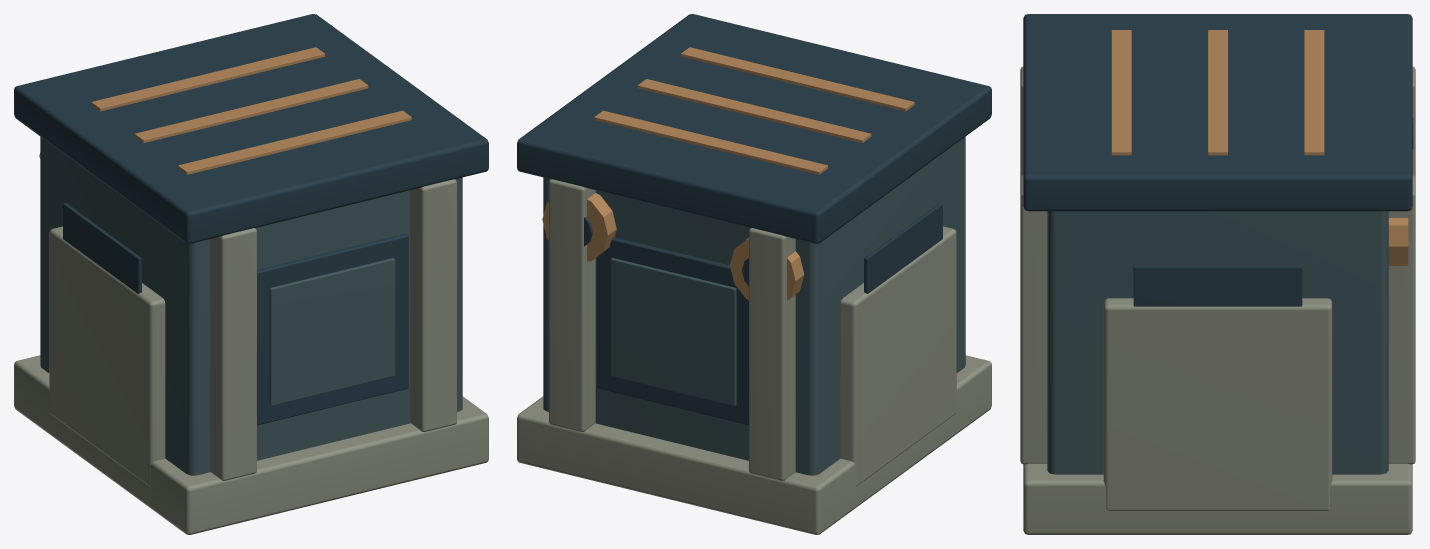
File: pump-1.glb
3 renders of one model, left to right at view 1: azimuth 30°, elevation 25°; view 2: azimuth 150°, elevation 25°; view 3: azimuth 270°, elevation 25°, orthographic. The views are drawn at different scales.
Visible parts, largest first — view 1: pump_2.001, pump_1.001, pump_0.001, pump_3.001; view 2: pump_2.001, pump_1.001, pump_0.001, pump_3.001; view 3: pump_1.001, pump_2.001, pump_0.001, pump_3.001.
Boxes of the visible parts, left/top/right/bottom form: pump_2.001: left=14, top=14, right=488, bottom=425; pump_1.001: left=14, top=179, right=488, bottom=534; pump_0.001: left=40, top=136, right=462, bottom=475; pump_3.001: left=39, top=47, right=411, bottom=174; pump_2.001: left=517, top=14, right=991, bottom=425; pump_1.001: left=517, top=179, right=991, bottom=534; pump_0.001: left=543, top=136, right=965, bottom=475; pump_3.001: left=542, top=47, right=914, bottom=300; pump_1.001: left=1020, top=66, right=1415, bottom=534; pump_2.001: left=1023, top=14, right=1413, bottom=306; pump_0.001: left=1047, top=211, right=1388, bottom=474; pump_3.001: left=1111, top=30, right=1408, bottom=265.
Bounding box in the file's own units: 0.975 × 0.9995 × 0.985.
